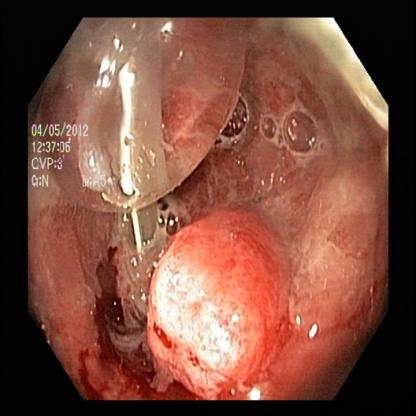Labels: (29, 113, 94, 190)
Polyps: (155, 225, 279, 379)
